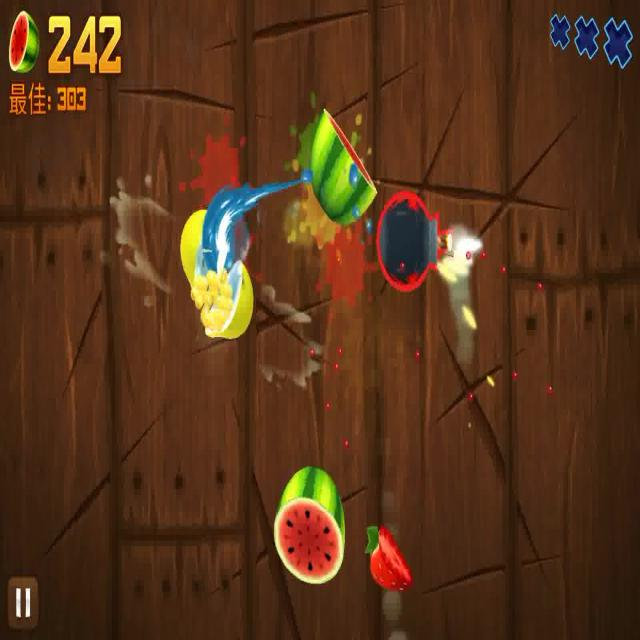bomb: (374, 184, 468, 294)
fruit: (309, 100, 377, 228), (273, 464, 346, 582), (201, 254, 255, 342), (364, 522, 413, 600), (180, 208, 220, 290)
